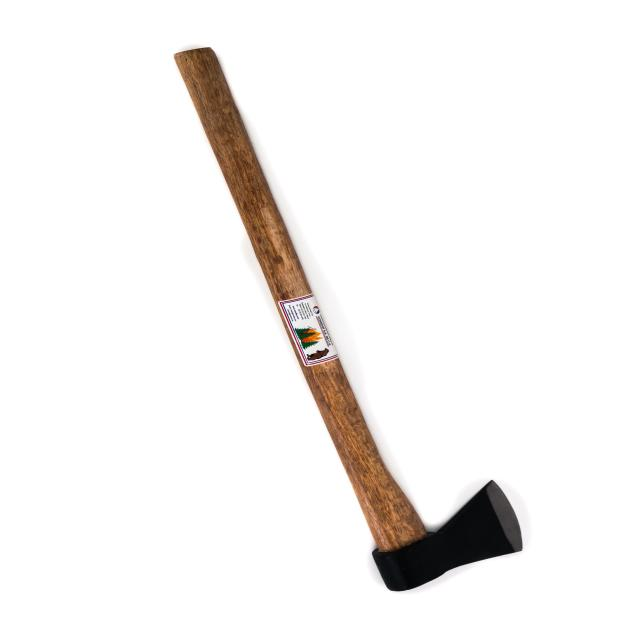Kapak: (155, 32, 508, 568)
